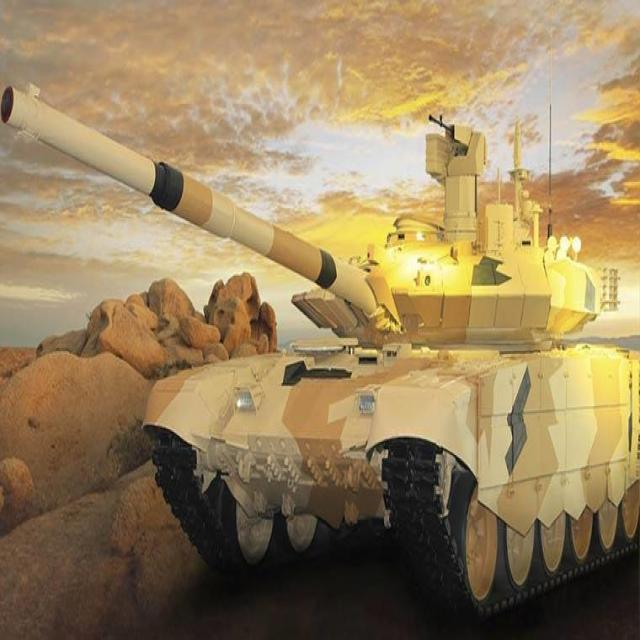MIL_MBT: (110, 153, 626, 608)
